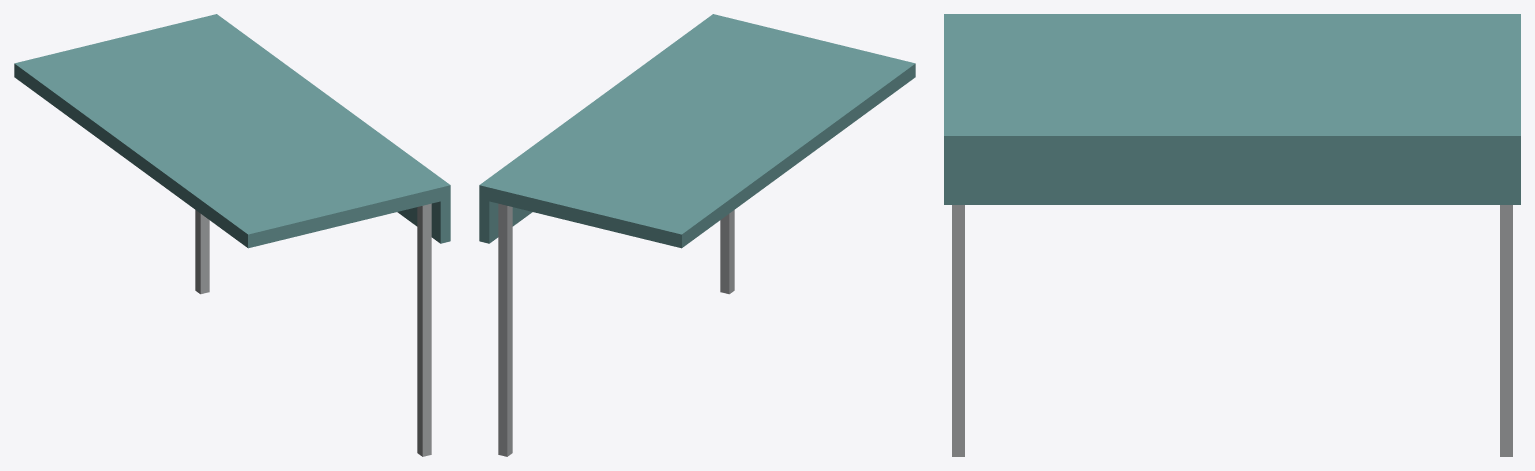
The model's file is 17_street_props-05.glb.
The picture shows the model from 3 angles, left to right: view 1: azimuth 30°, elevation 25°; view 2: azimuth 150°, elevation 25°; view 3: azimuth 270°, elevation 25°; orthographic projection. The views are drawn at different scales.
Bounding box in the file's own units: 2 × 2.53 × 4.
